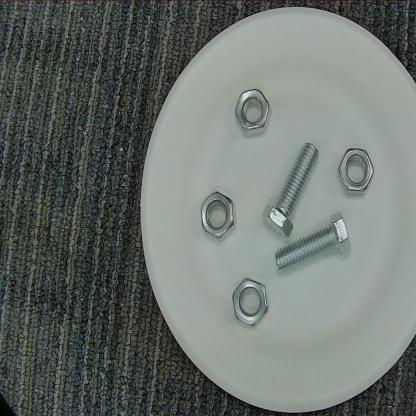FOD: (271, 209, 358, 284), (262, 141, 320, 240), (334, 140, 380, 200), (196, 188, 238, 250), (232, 85, 278, 141), (228, 276, 272, 332)
